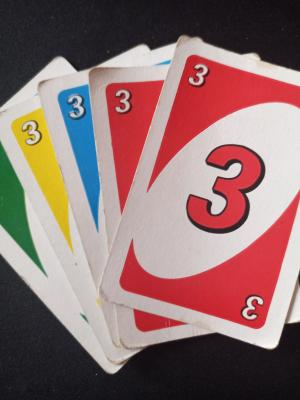num_3: (237, 292, 271, 326), (17, 116, 47, 154), (60, 88, 89, 127), (187, 60, 212, 94), (112, 85, 136, 118)
